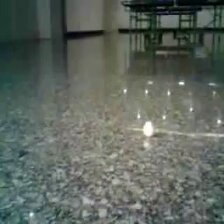w: (141, 119, 155, 138)
